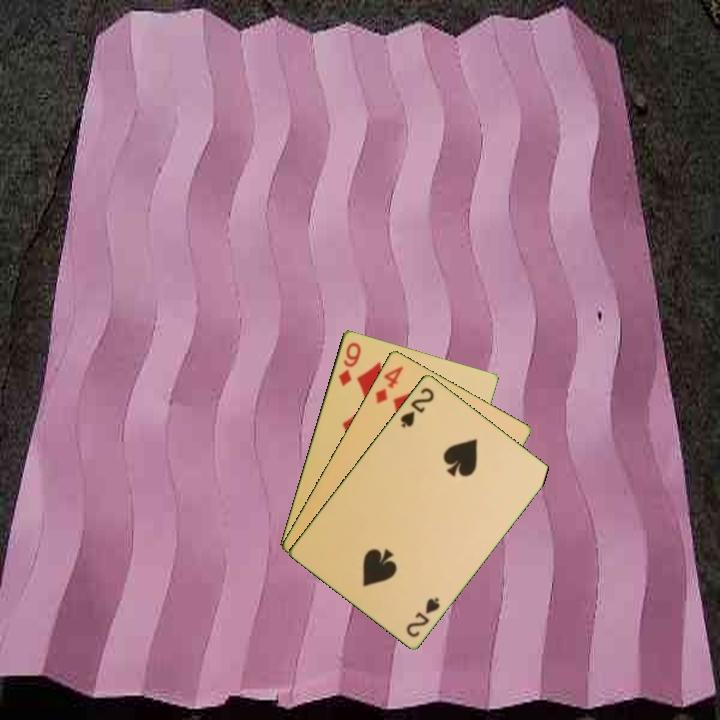2s: (396, 383, 437, 431), (403, 593, 443, 640)
4d: (371, 362, 406, 406)
9d: (334, 338, 364, 389)
